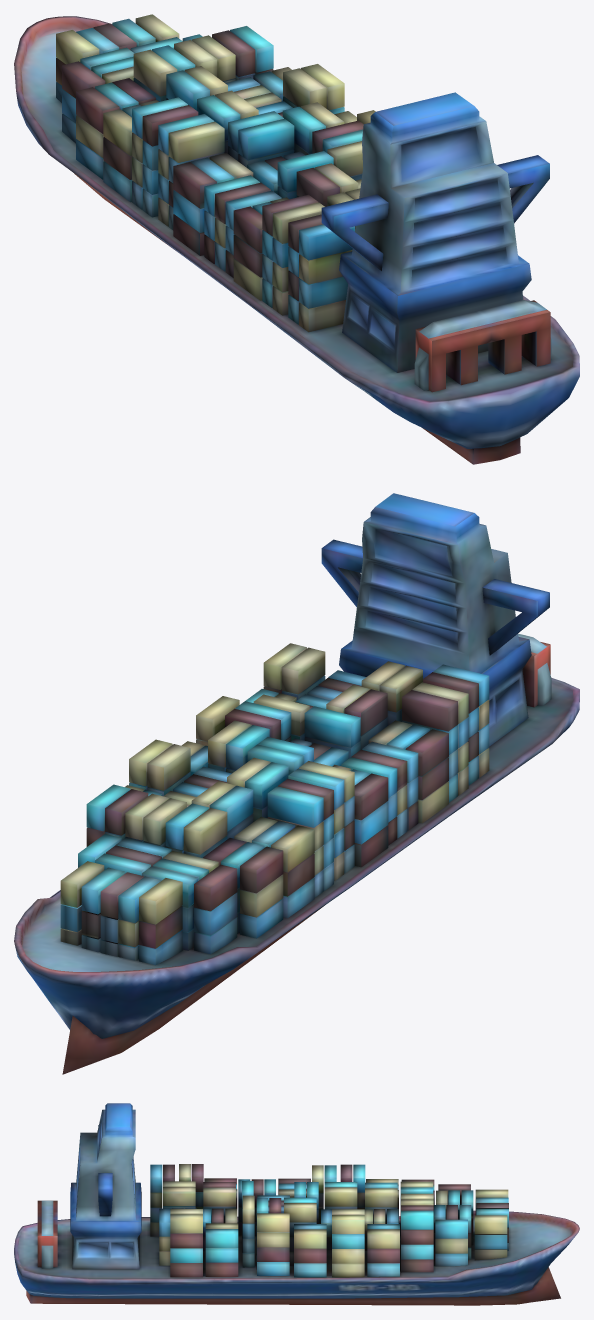
File: Transport.glb
The picture shows the model from 3 angles, top to bottom: view 1: azimuth 30°, elevation 25°; view 2: azimuth 150°, elevation 25°; view 3: azimuth 270°, elevation 25°; orthographic projection. The views are drawn at different scales.
Parts seen in each view (by area): view 1: Cube.175; view 2: Cube.175; view 3: Cube.175.
Boxes of the visible parts, bbox=[...] form: Cube.175: bbox=[14, 14, 579, 464]; Cube.175: bbox=[14, 493, 579, 1074]; Cube.175: bbox=[14, 1103, 579, 1305].
Bounding box in the file's own units: 11.92 × 15.83 × 44.24.
Materials: 1 (1 with a texture image).
